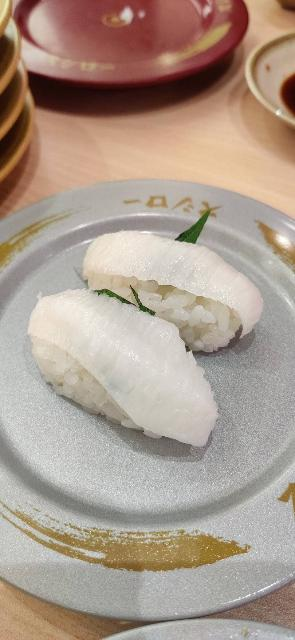jangold: (0, 115, 38, 171), (0, 9, 19, 81), (0, 85, 26, 124), (0, 0, 3, 42)
janred: (7, 0, 239, 95)
janwhite: (0, 183, 295, 600), (89, 616, 295, 640)
